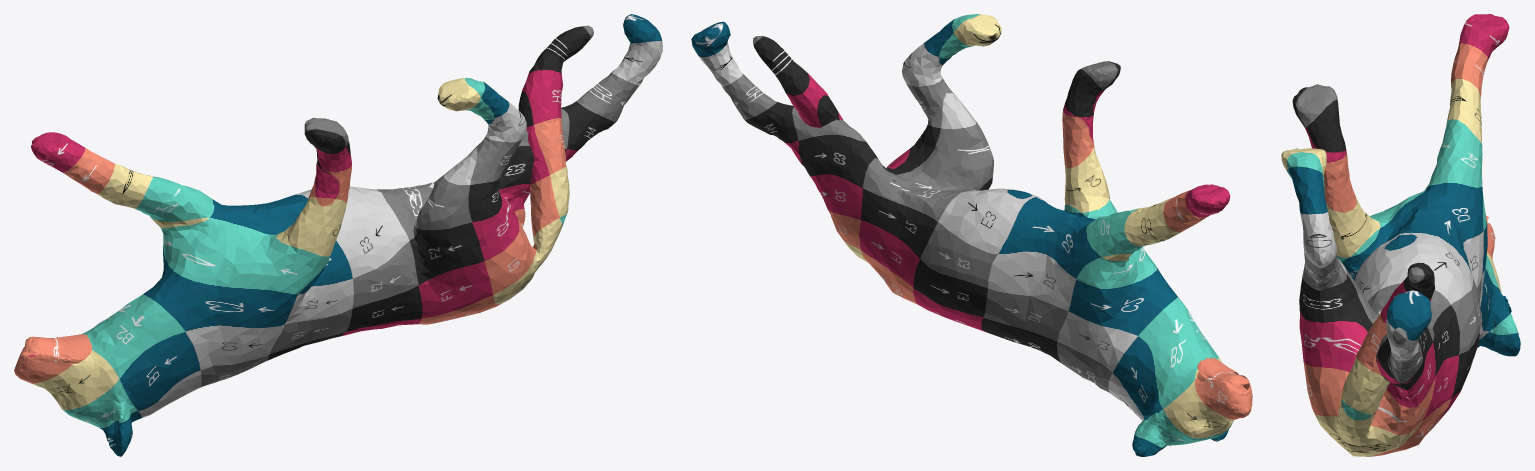
The model's file is horse_04-dog_08.obj.
3 renders of one model, left to right at view 1: azimuth 30°, elevation 25°; view 2: azimuth 150°, elevation 25°; view 3: azimuth 270°, elevation 25°, orthographic. The views are drawn at different scales.
Parts seen in each view (by area): view 1: horse_04-dog_08_export; view 2: horse_04-dog_08_export; view 3: horse_04-dog_08_export.
Boxes of the visible parts, <box> form: horse_04-dog_08_export: <box>14,14,662,456</box>; horse_04-dog_08_export: <box>691,14,1252,456</box>; horse_04-dog_08_export: <box>1281,14,1520,456</box>.
Size of the model in its own units: 1.17 by 0.611 by 0.3694.
